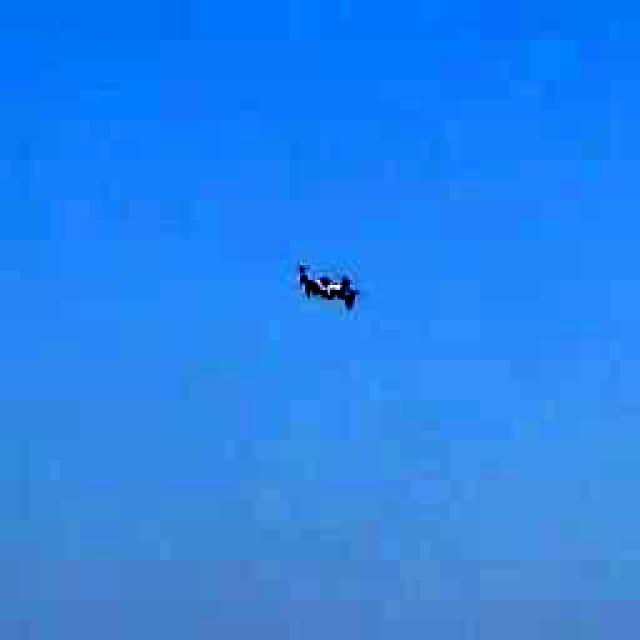bird: (262, 221, 385, 344)
